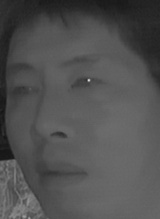eye: (66, 71, 105, 96), (10, 82, 42, 100)
mouth: (33, 158, 91, 192)
